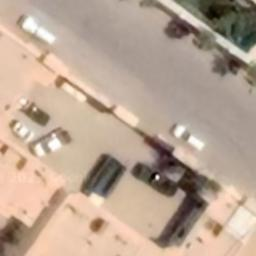SUV: (170, 119, 207, 152)
pickup: (29, 128, 74, 160)
sedan: (20, 96, 52, 126), (8, 116, 34, 144)
truck: (82, 152, 128, 208), (134, 158, 178, 200), (16, 11, 58, 48)
